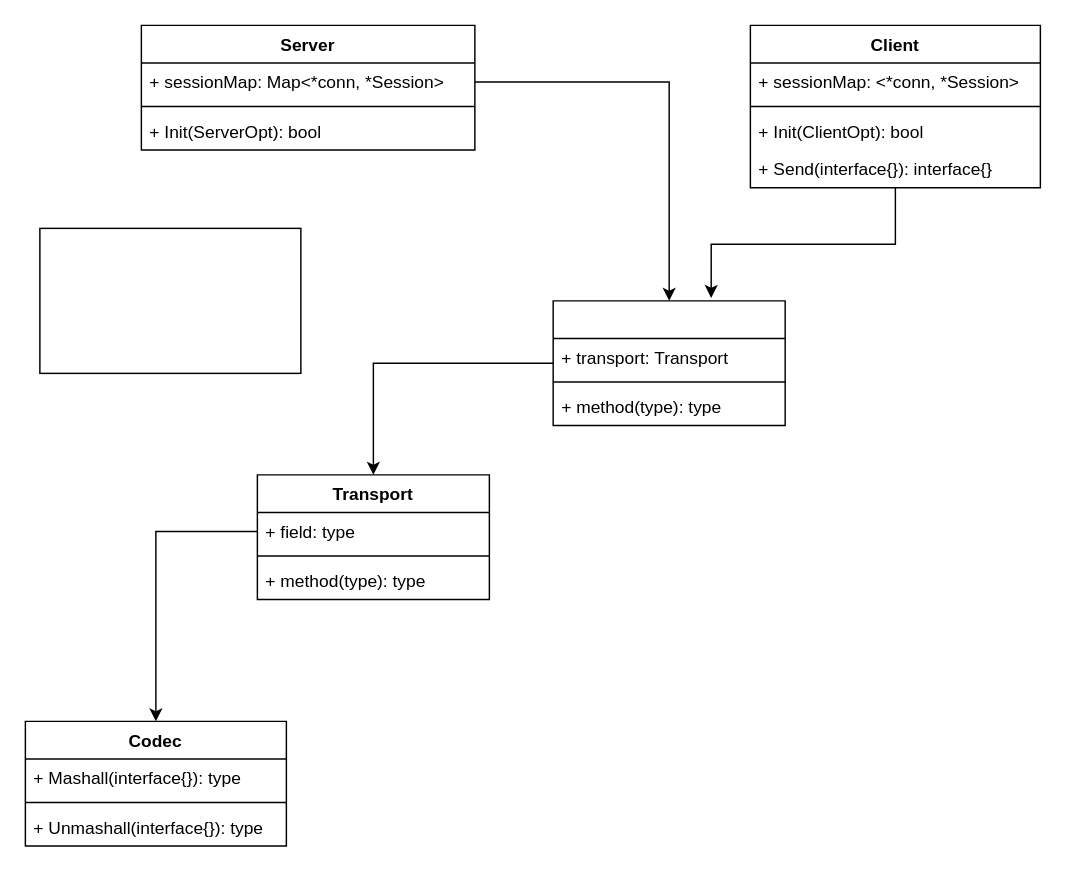
Image size: 1066x876. Some labels were removed from this diagram. The box of each missing label's shape, as (x1, y1, x2, y2) in pixels:
<<Interface>> Handler + Handler(*Msg): Type: (38, 227, 301, 373)
Session: (552, 299, 785, 426)
